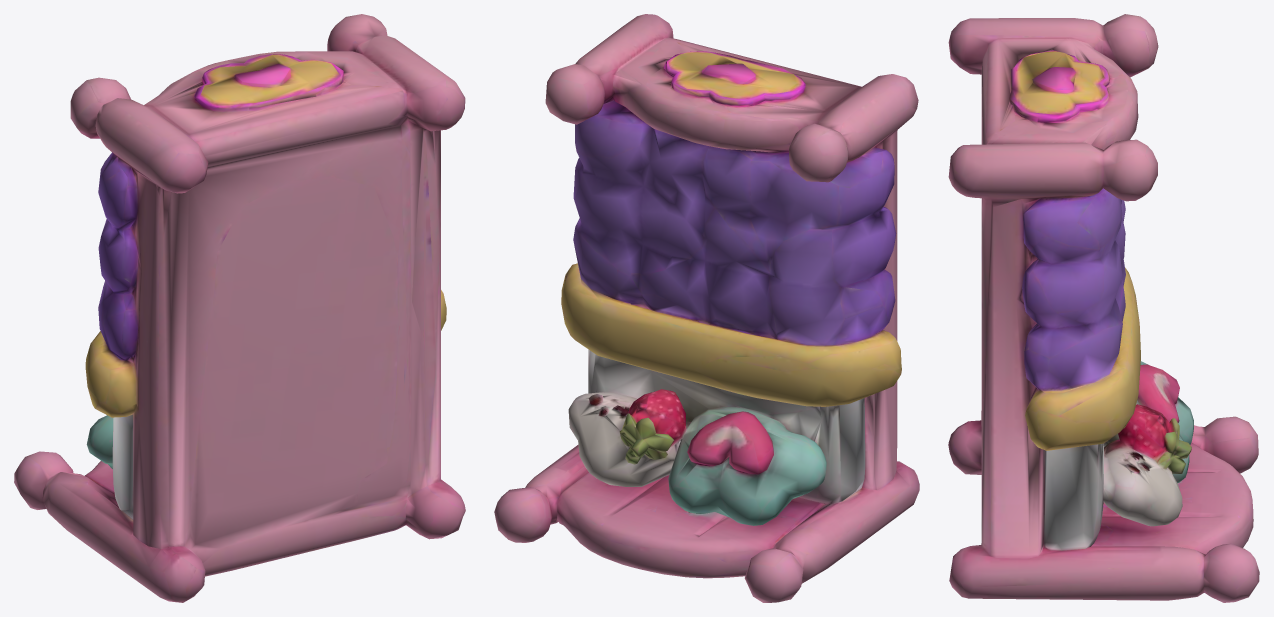
The picture shows the model from 3 angles, left to right: view 1: azimuth 30°, elevation 25°; view 2: azimuth 150°, elevation 25°; view 3: azimuth 270°, elevation 25°; orthographic projection. The views are drawn at different scales.
Parts seen in each view (by area): view 1: material; view 2: material; view 3: material.
Part boxes in pixels (<box>): material: <box>14,14,465,602</box>; material: <box>494,14,919,602</box>; material: <box>948,14,1259,602</box>.
Size of the model in its own units: 0.7933 by 1 by 0.6162.
Materials: 1 (1 with a texture image).
